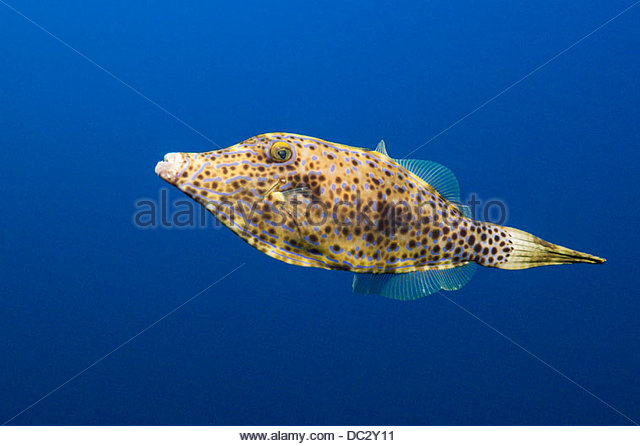Aluterus_scriptus: (144, 120, 621, 305)
